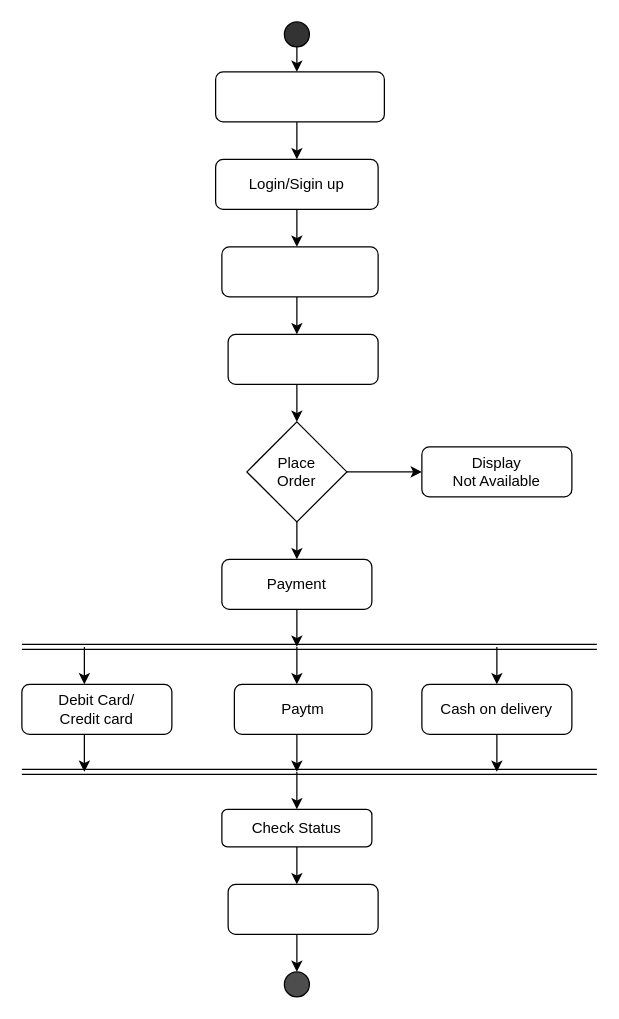
Image size: 619x1019. Some labels were removed from this diagram. The box of each missing label's shape, as (x1, y1, x2, y2) in pixels:
Open App Website: (214, 71, 384, 122)
Receive Food: (227, 883, 378, 934)
Search Food: (221, 246, 378, 297)
Select Dish: (227, 333, 378, 384)
